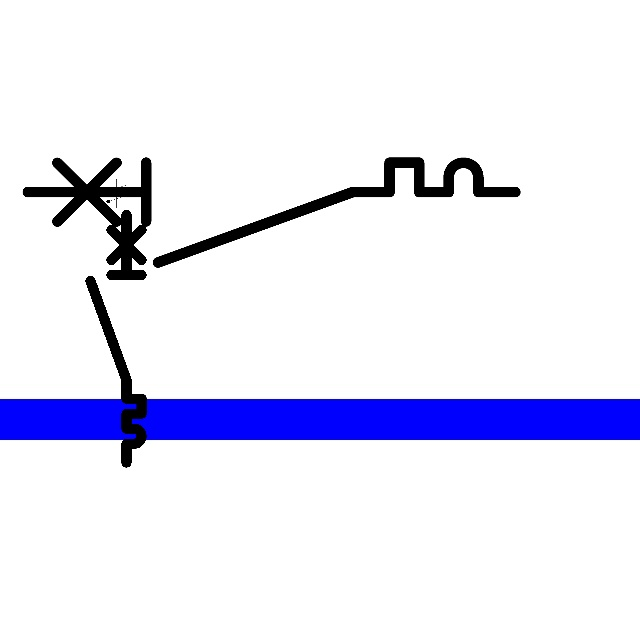interruptor_termomagnetico: (15, 150, 528, 275), (84, 208, 148, 469)
